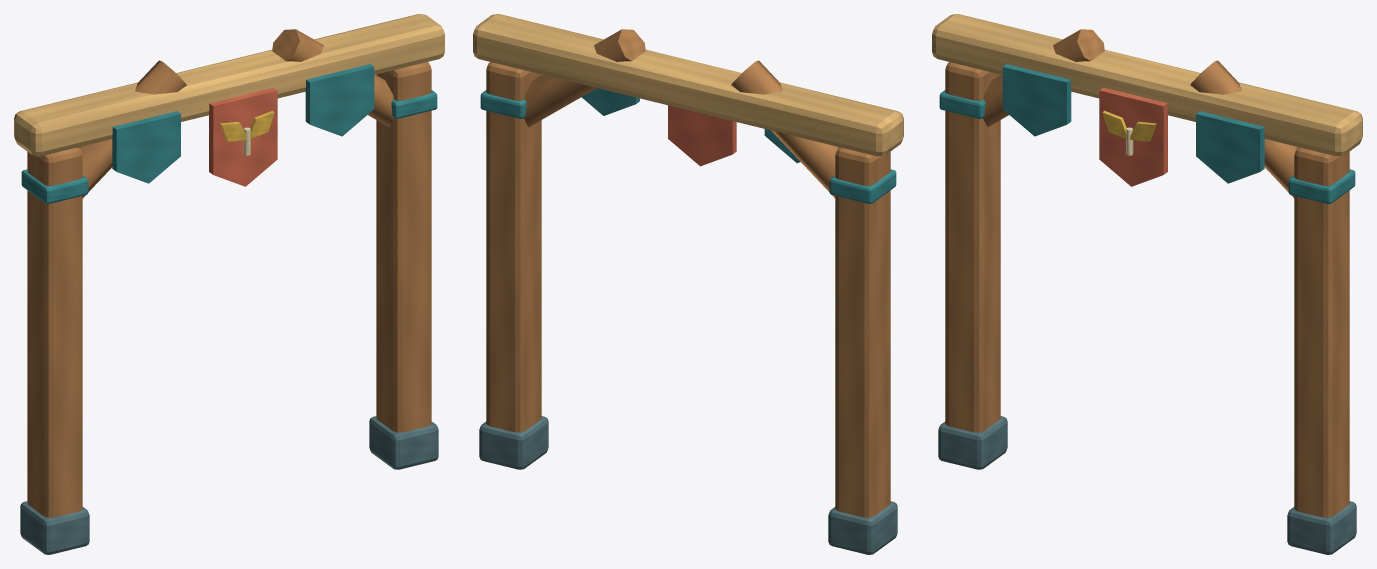
The model's file is camp-arch.glb.
3 renders of one model, left to right at view 1: azimuth 30°, elevation 25°; view 2: azimuth 150°, elevation 25°; view 3: azimuth 330°, elevation 25°, orthographic.
Parts seen in each view (by area): view 1: camp-arch-mesh; view 2: camp-arch-mesh; view 3: camp-arch-mesh.
Part boxes in pixels (box(x1,y1,x2,y2)): camp-arch-mesh: box(14, 14, 444, 554); camp-arch-mesh: box(473, 14, 903, 554); camp-arch-mesh: box(932, 14, 1362, 554).
Bounding box in the file's own units: 3.08 × 3.23 × 0.4328.
1 material, 1 textured.
